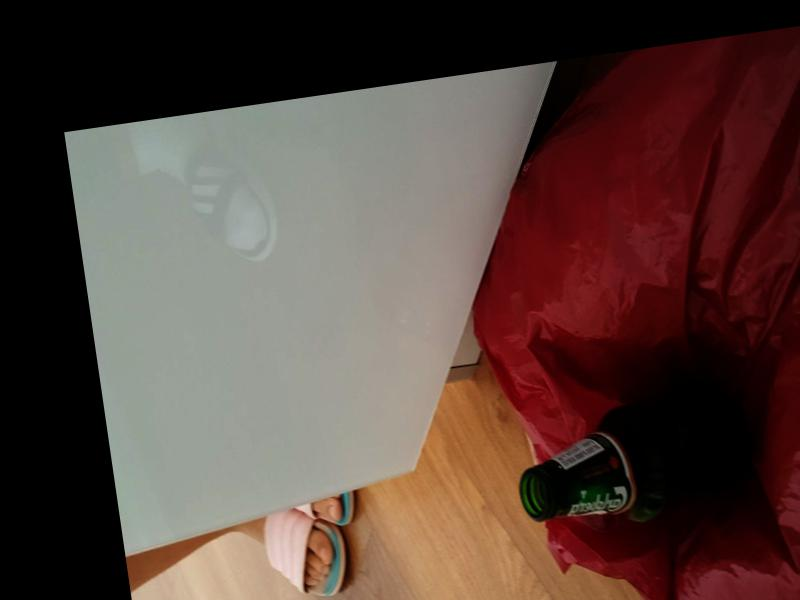Beer: (509, 378, 760, 537)
